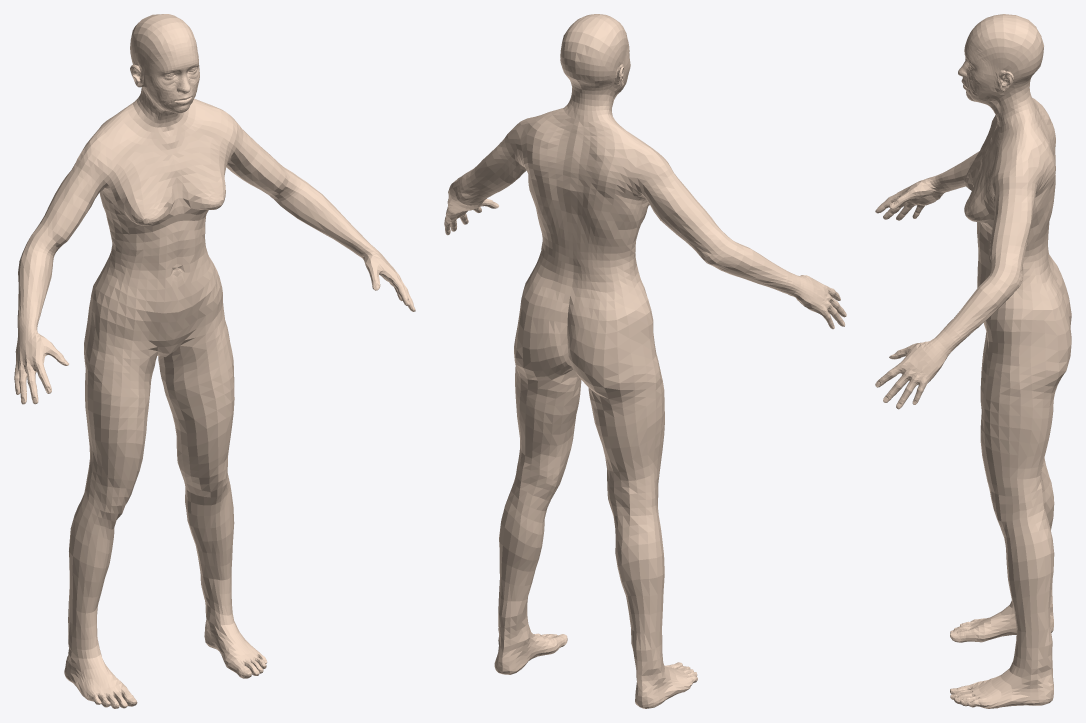
File: female-older-average-high.glb
3 views of the same model, side by side, from view 1: azimuth 30°, elevation 25°; view 2: azimuth 150°, elevation 25°; view 3: azimuth 270°, elevation 25° (orthographic).
Visible parts, largest first — view 1: world; view 2: world; view 3: world.
Part boxes in pixels (x1,y1,x2,y2): world: (14,14,415,708); world: (444,14,846,708); world: (875,14,1071,708).
Size of the model in its own units: 1.13 by 1.8 by 0.4926.
